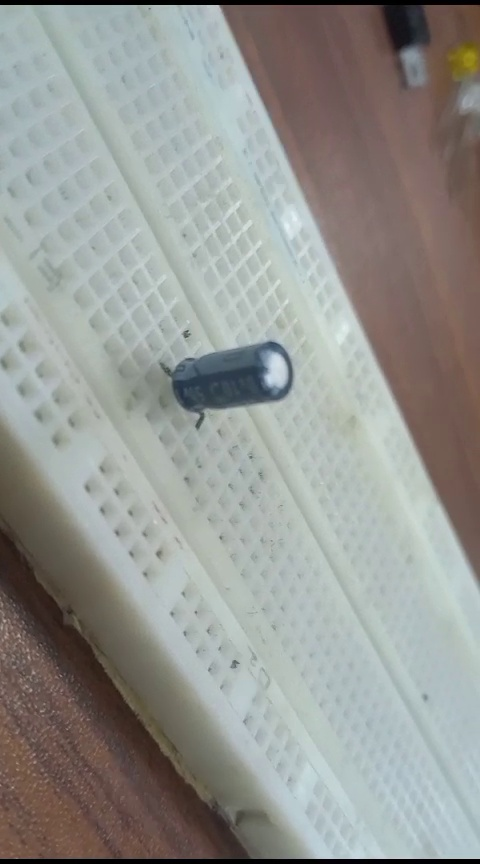capacitor: (144, 320, 306, 429)
